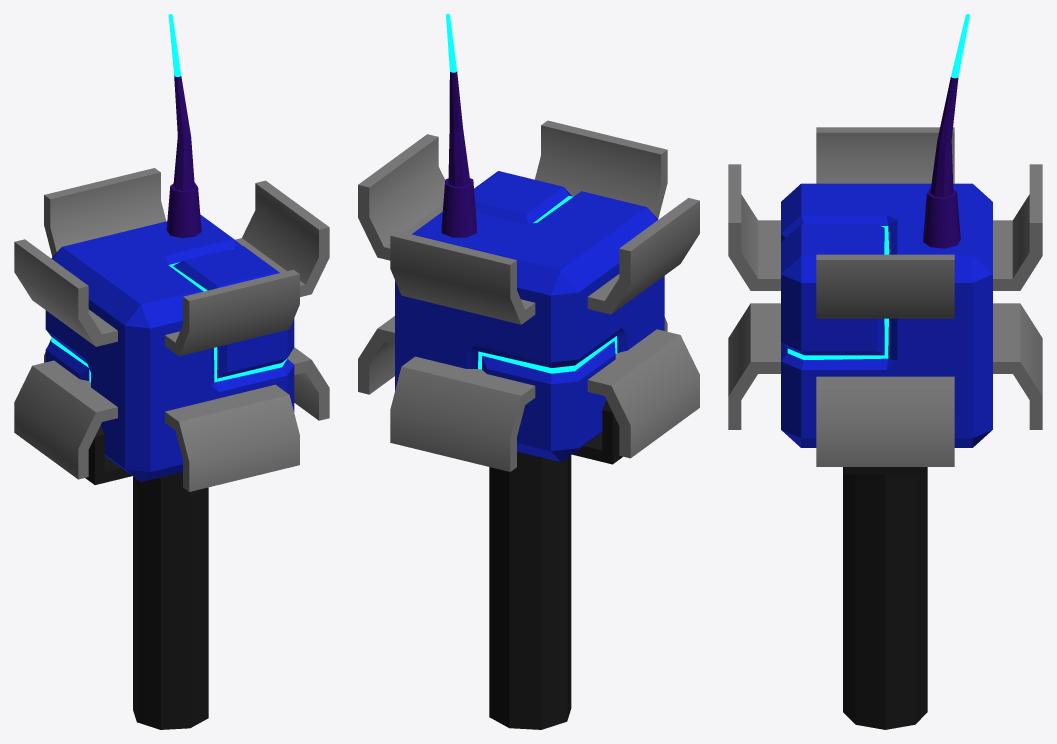
The picture shows the model from 3 angles, left to right: view 1: azimuth 30°, elevation 25°; view 2: azimuth 150°, elevation 25°; view 3: azimuth 270°, elevation 25°; orthographic projection. The views are drawn at different scales.
Visible parts, largest first — view 1: Circle025; view 2: Circle025; view 3: Circle025.
Boxes of the visible parts, bbox=[...] form: Circle025: bbox=[14, 14, 329, 729]; Circle025: bbox=[358, 14, 699, 729]; Circle025: bbox=[728, 14, 1042, 729].
Size of the model in its own units: 59.34 by 149 by 59.34.
